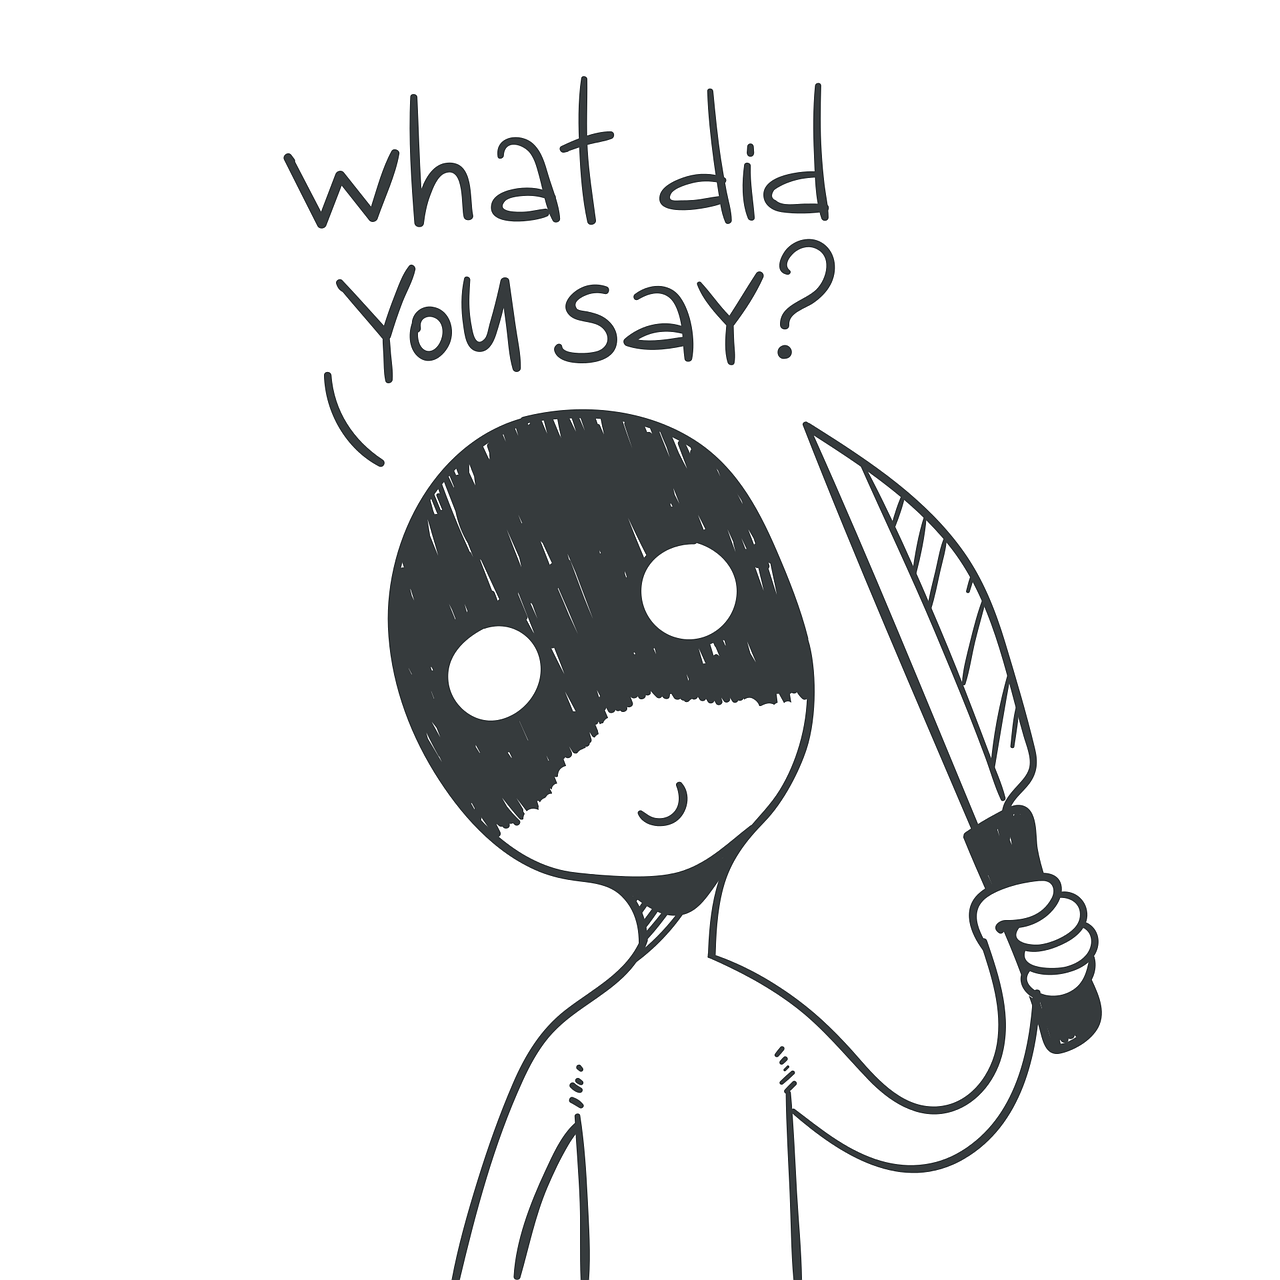knife: (794, 414, 1131, 1055)
